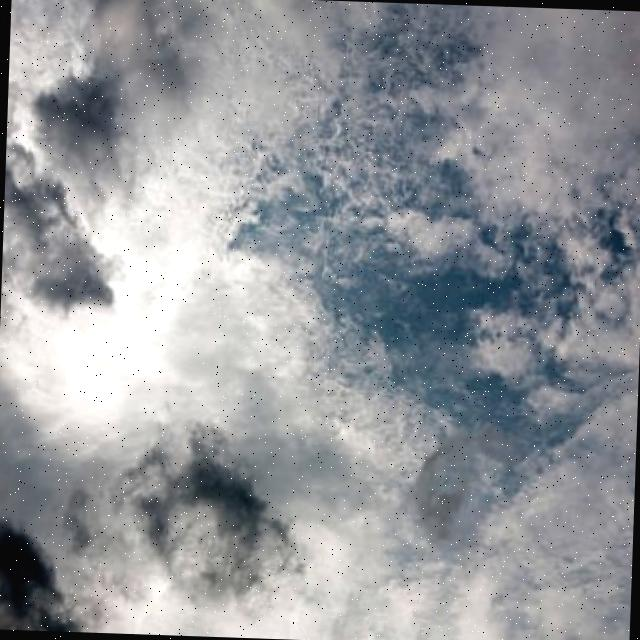Ns: (1, 20, 640, 567)
